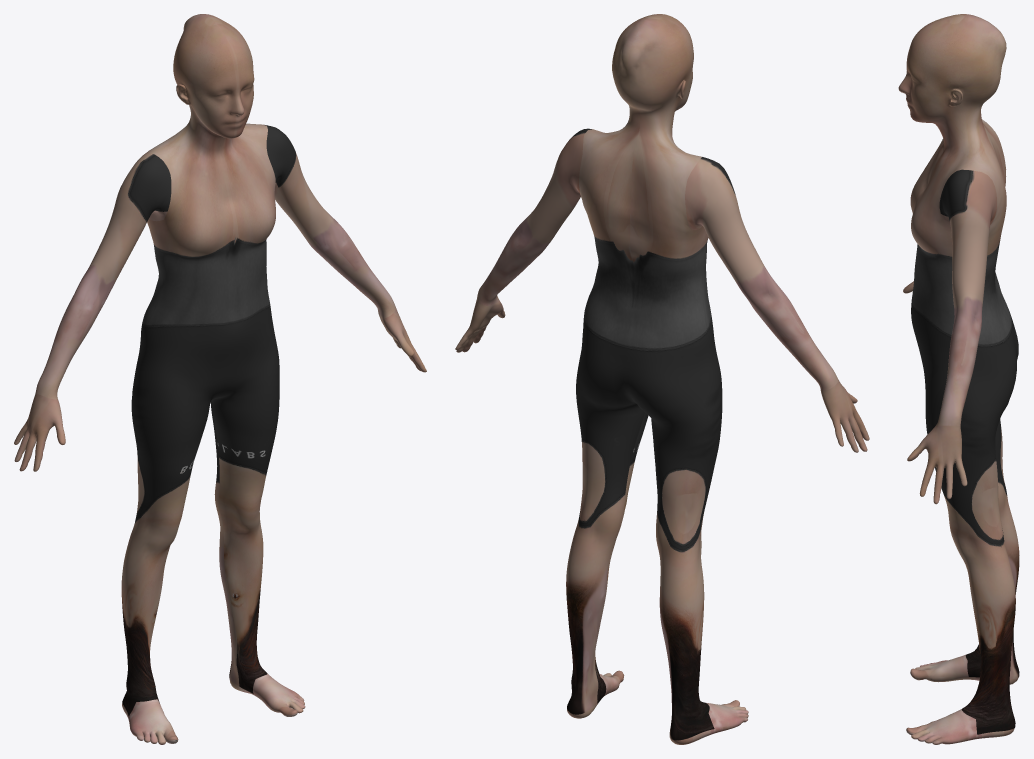
The model's file is TS_bodylab.glb.
The picture shows the model from 3 angles, left to right: view 1: azimuth 30°, elevation 25°; view 2: azimuth 150°, elevation 25°; view 3: azimuth 270°, elevation 25°; orthographic projection.
Parts seen in each view (by area): view 1: glb_mesh; view 2: glb_mesh; view 3: glb_mesh.
Boxes of the visible parts, x1,y1,x2,y2 form: glb_mesh: [14, 14, 426, 744]; glb_mesh: [455, 14, 869, 744]; glb_mesh: [898, 14, 1019, 744].
Bounding box in the file's own units: 1.03 × 1.69 × 0.2671.
Materials: 1 (1 with a texture image).
